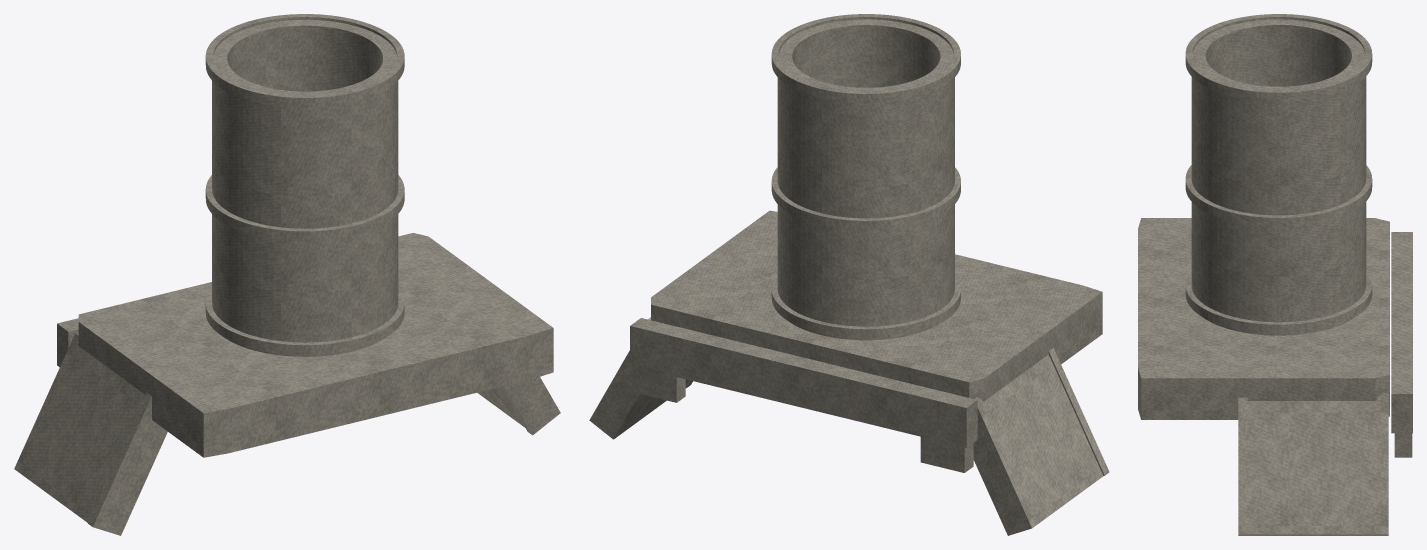
File: PROJECT_Z_Drainage_03_Culvert_Entrance_Prefab.glb
3 renders of one model, left to right at view 1: azimuth 30°, elevation 25°; view 2: azimuth 150°, elevation 25°; view 3: azimuth 270°, elevation 25°, orthographic. The views are drawn at different scales.
Visible parts, largest first — view 1: CULVERT_02_HOLLOW_1p30m_Concrete_Pipe_Barrel, CULVERT_01_HOLLOW_Precast_Headwall_Round_Opening, CULVERT_04_Left_Splayed_Wingwall, CULVERT_03_Pipe_Collar_03, CULVERT_06_Left_Wingwall_Coping, CULVERT_03_Pipe_Collar_02, CULVERT_03_Pipe_Collar_01, CULVERT_07_Right_Wingwall_Coping, CULVERT_08_Concrete_Headwall_Toe_Foundation; view 2: CULVERT_02_HOLLOW_1p30m_Concrete_Pipe_Barrel, CULVERT_01_HOLLOW_Precast_Headwall_Round_Opening, CULVERT_08_Concrete_Headwall_Toe_Foundation, CULVERT_04_Left_Splayed_Wingwall, CULVERT_03_Pipe_Collar_03, CULVERT_03_Pipe_Collar_01, CULVERT_03_Pipe_Collar_02, CULVERT_05_Right_Splayed_Wingwall, CULVERT_06_Left_Wingwall_Coping; view 3: CULVERT_02_HOLLOW_1p30m_Concrete_Pipe_Barrel, CULVERT_01_HOLLOW_Precast_Headwall_Round_Opening, CULVERT_05_Right_Splayed_Wingwall, CULVERT_08_Concrete_Headwall_Toe_Foundation, CULVERT_03_Pipe_Collar_03, CULVERT_03_Pipe_Collar_01, CULVERT_03_Pipe_Collar_02, CULVERT_07_Right_Wingwall_Coping.
Part boxes in pixels (bbox=[...]): CULVERT_02_HOLLOW_1p30m_Concrete_Pipe_Barrel: bbox=[212, 19, 398, 356]; CULVERT_01_HOLLOW_Precast_Headwall_Round_Opening: bbox=[78, 233, 553, 457]; CULVERT_04_Left_Splayed_Wingwall: bbox=[14, 333, 145, 522]; CULVERT_03_Pipe_Collar_03: bbox=[205, 14, 404, 107]; CULVERT_06_Left_Wingwall_Coping: bbox=[88, 392, 167, 535]; CULVERT_03_Pipe_Collar_02: bbox=[205, 175, 404, 241]; CULVERT_03_Pipe_Collar_01: bbox=[205, 289, 404, 354]; CULVERT_07_Right_Wingwall_Coping: bbox=[502, 377, 560, 435]; CULVERT_08_Concrete_Headwall_Toe_Foundation: bbox=[57, 318, 78, 367]; CULVERT_02_HOLLOW_1p30m_Concrete_Pipe_Barrel: bbox=[777, 19, 954, 340]; CULVERT_01_HOLLOW_Precast_Headwall_Round_Opening: bbox=[651, 210, 1102, 401]; CULVERT_08_Concrete_Headwall_Toe_Foundation: bbox=[630, 318, 977, 472]; CULVERT_04_Left_Splayed_Wingwall: bbox=[973, 354, 1103, 535]; CULVERT_03_Pipe_Collar_03: bbox=[771, 14, 960, 103]; CULVERT_03_Pipe_Collar_01: bbox=[771, 275, 960, 338]; CULVERT_03_Pipe_Collar_02: bbox=[771, 167, 960, 230]; CULVERT_05_Right_Splayed_Wingwall: bbox=[589, 317, 688, 439]; CULVERT_06_Left_Wingwall_Coping: bbox=[1048, 347, 1109, 475]; CULVERT_02_HOLLOW_1p30m_Concrete_Pipe_Barrel: bbox=[1191, 19, 1366, 335]; CULVERT_01_HOLLOW_Precast_Headwall_Round_Opening: bbox=[1138, 218, 1389, 419]; CULVERT_05_Right_Splayed_Wingwall: bbox=[1247, 392, 1388, 535]; CULVERT_08_Concrete_Headwall_Toe_Foundation: bbox=[1391, 232, 1412, 457]; CULVERT_03_Pipe_Collar_03: bbox=[1185, 14, 1372, 101]; CULVERT_03_Pipe_Collar_01: bbox=[1185, 272, 1372, 333]; CULVERT_03_Pipe_Collar_02: bbox=[1185, 165, 1372, 227]; CULVERT_07_Right_Wingwall_Coping: bbox=[1238, 397, 1247, 535].
Bounding box in the file's own units: 3.75 × 3.16 × 2.03.
Materials: 4 (4 with a texture image).
